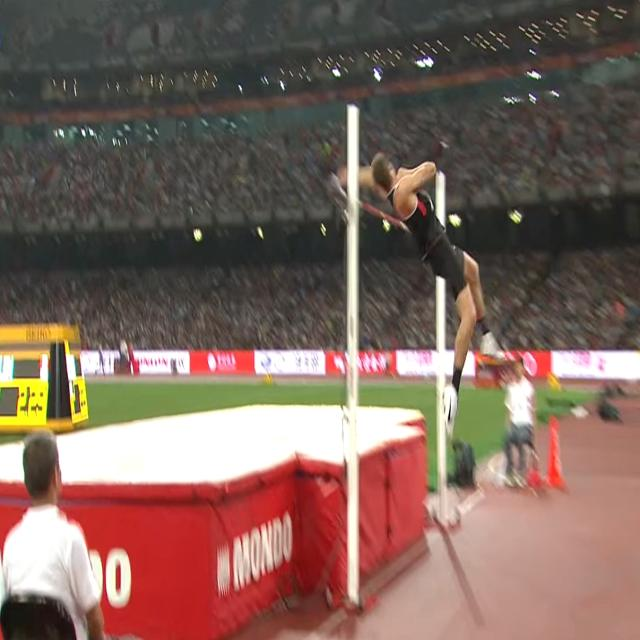jump: (339, 152, 504, 436)
